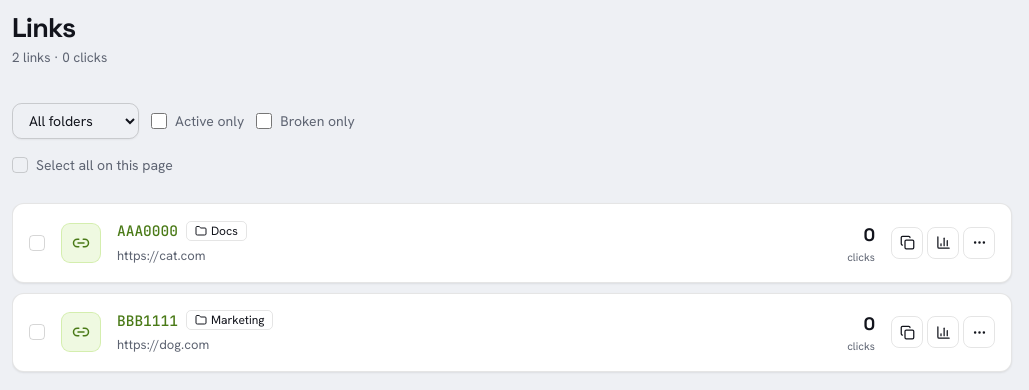
Test: Links › filters by folder via the API (?folder= in the querystring)
Expected: the link "AAA0000" is shown, [117, 220, 178, 242]
Select "Marketing (1)" in the dropdown named "filter by folder" at [76, 121], box [12, 103, 139, 139]
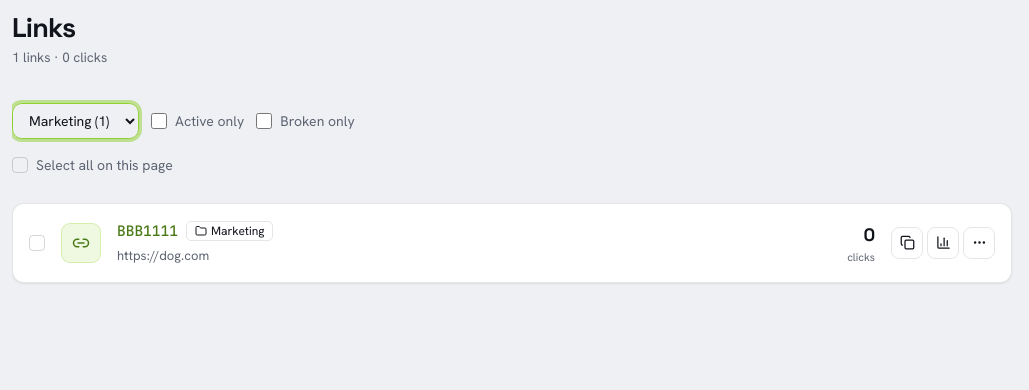
Expected: the link "BBB1111" is shown, [117, 220, 178, 242]
Now the link "AAA0000" is gone
